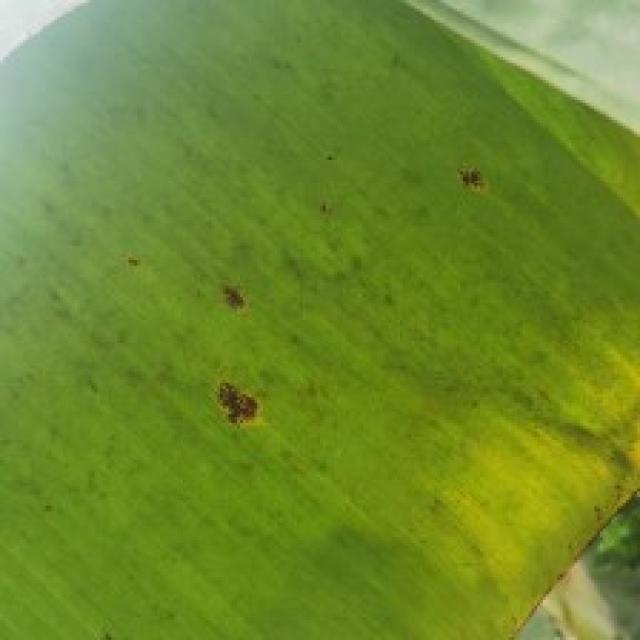Downey_mildrew: (520, 334, 640, 592), (202, 372, 308, 458), (435, 140, 520, 216), (218, 265, 268, 344)
